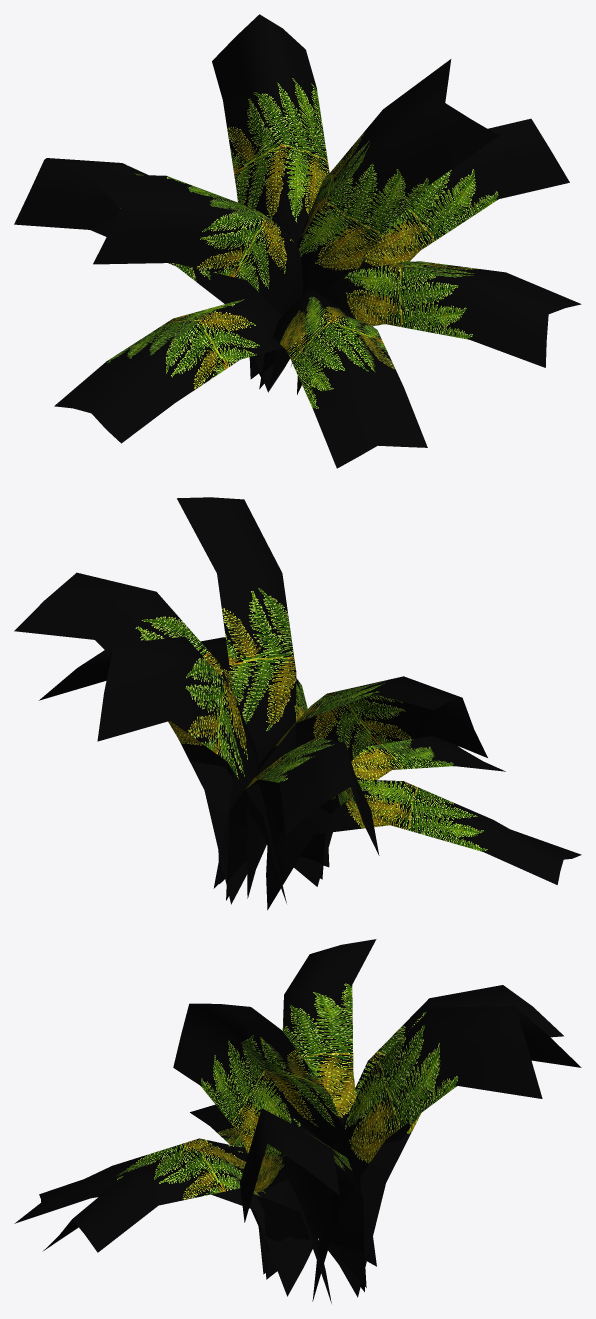
Rendered from Fern_Vert_02.fbx.
3 views of the same model, one above another, from view 1: azimuth 30°, elevation 25°; view 2: azimuth 150°, elevation 25°; view 3: azimuth 270°, elevation 25° (orthographic). The views are drawn at different scales.
Parts seen in each view (by area): view 1: Fern02; view 2: Fern02; view 3: Fern02.
Boxes of the visible parts, left/top/right/bottom form: Fern02: left=14, top=14, right=581, bottom=468; Fern02: left=14, top=497, right=581, bottom=910; Fern02: left=14, top=939, right=581, bottom=1303.
Size of the model in its own units: 1.91 by 1.2 by 1.81.
